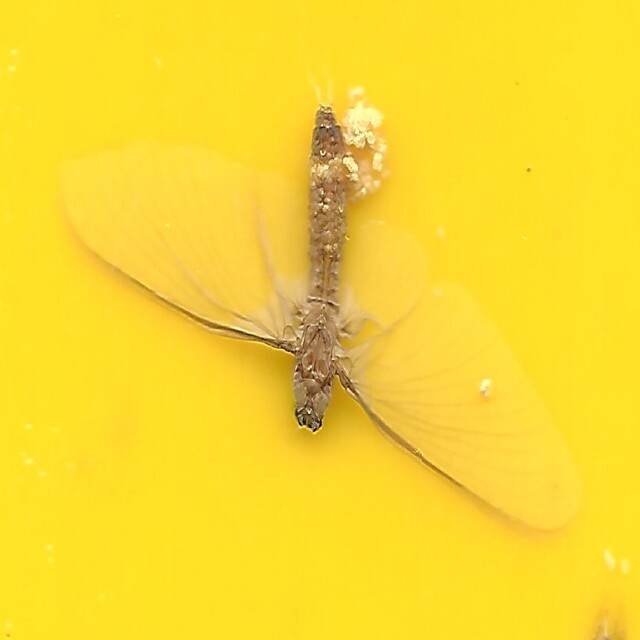Ephemeroptera: (60, 100, 580, 540)
